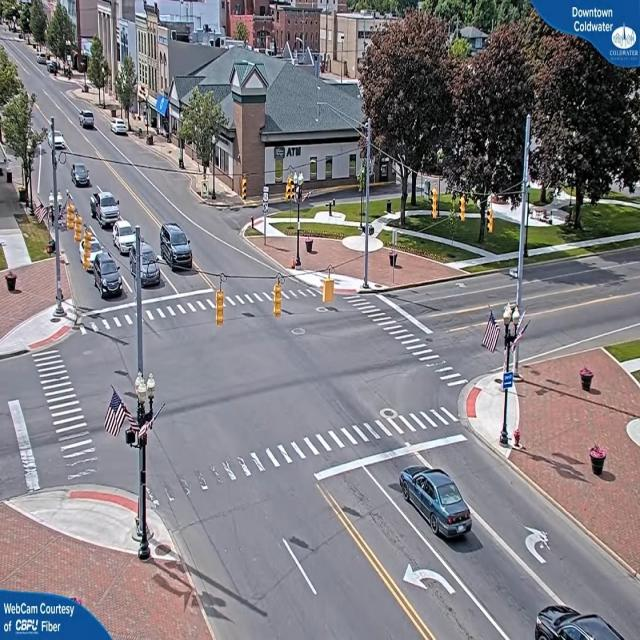car: (398, 468, 474, 540), (90, 248, 125, 298), (159, 225, 195, 272), (91, 191, 120, 228), (136, 247, 162, 287), (70, 164, 90, 188), (78, 112, 95, 130), (112, 120, 130, 137)
